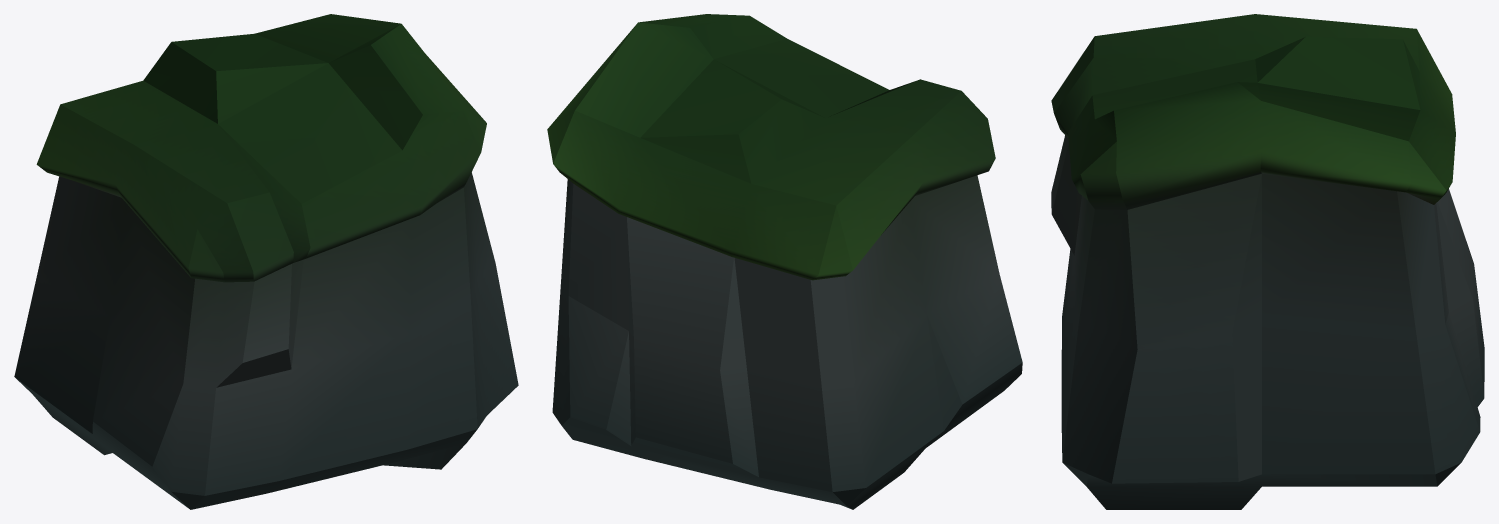
The model's file is Rock_grass.fbx.
The picture shows the model from 3 angles, left to right: view 1: azimuth 30°, elevation 25°; view 2: azimuth 150°, elevation 25°; view 3: azimuth 270°, elevation 25°; orthographic projection. The views are drawn at different scales.
Parts seen in each view (by area): view 1: Rock_3; view 2: Rock_3; view 3: Rock_3.
Boxes of the visible parts, left/top/right/bottom form: Rock_3: left=14, top=14, right=518, bottom=509; Rock_3: left=547, top=14, right=1022, bottom=509; Rock_3: left=1051, top=14, right=1484, bottom=509.
Size of the model in its own units: 469 by 472 by 436.
